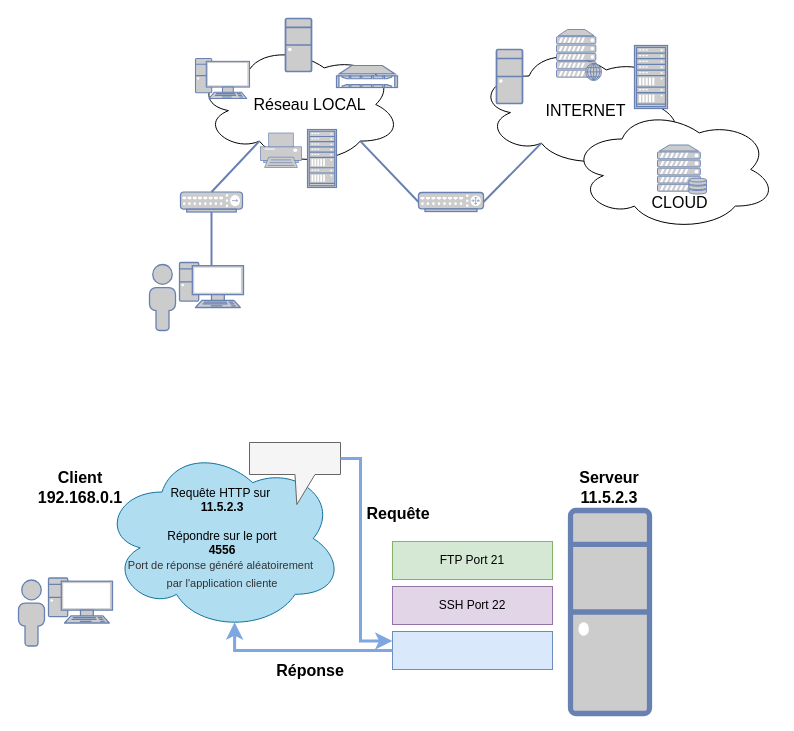
Image size: 794x731. Some labels were removed from this diagram. Here are the shapes that lost their labels. From the top down, the centre of each, then its label:
At (294,473): "Sur le port 80".
At (472,650): "HTTP Port 80".
